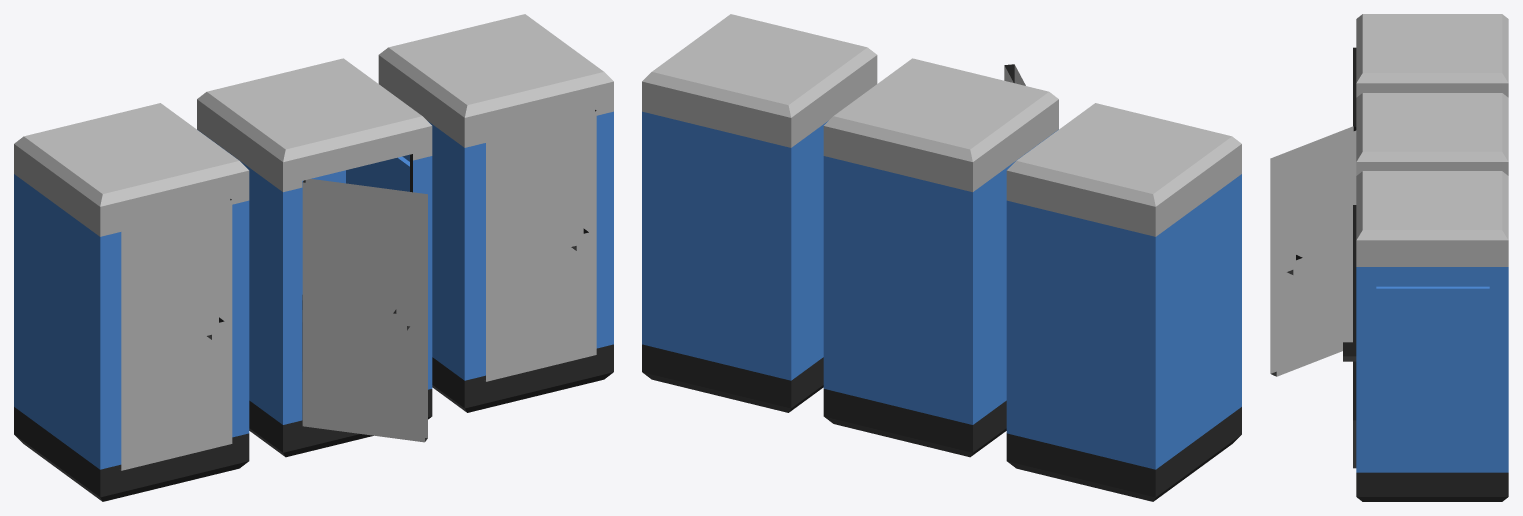
Rendered from Toilet2.dae.
The picture shows the model from 3 angles, left to right: view 1: azimuth 30°, elevation 25°; view 2: azimuth 150°, elevation 25°; view 3: azimuth 270°, elevation 25°; orthographic projection. The views are drawn at different scales.
Visible parts, largest first — view 1: Toilet2; view 2: Toilet2; view 3: Toilet2.
Part boxes in pixels (box(x1,y1,x2,y2)): Toilet2: box(14, 14, 613, 501); Toilet2: box(642, 14, 1241, 501); Toilet2: box(1270, 14, 1508, 501).
Bounding box in the file's own units: 4.64 × 2.09 × 2.63.
